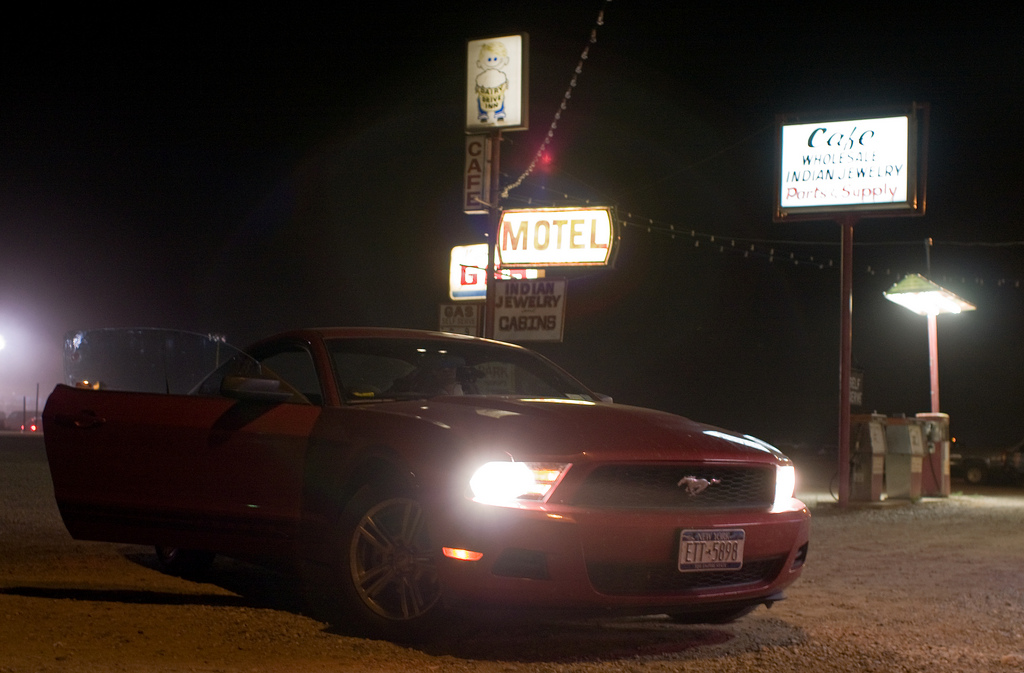car: (33, 296, 821, 647)
